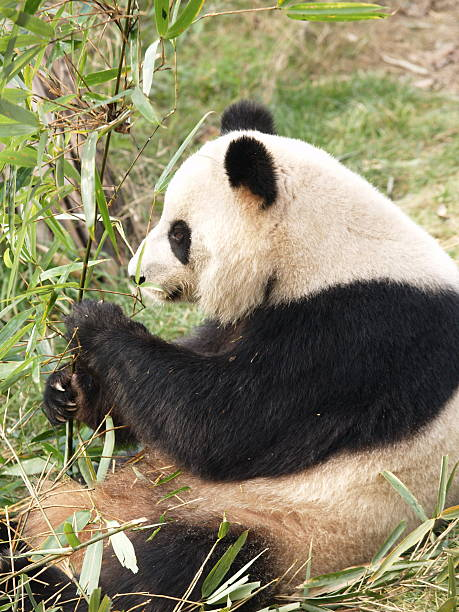panda: (123, 91, 313, 348)
